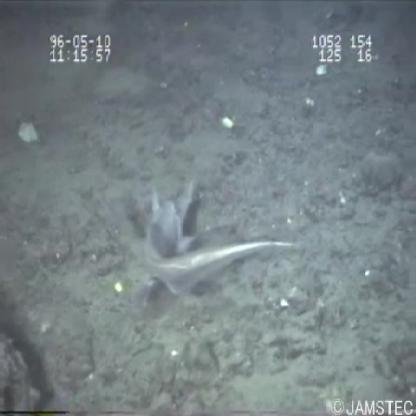Bio: (102, 179, 309, 303)
